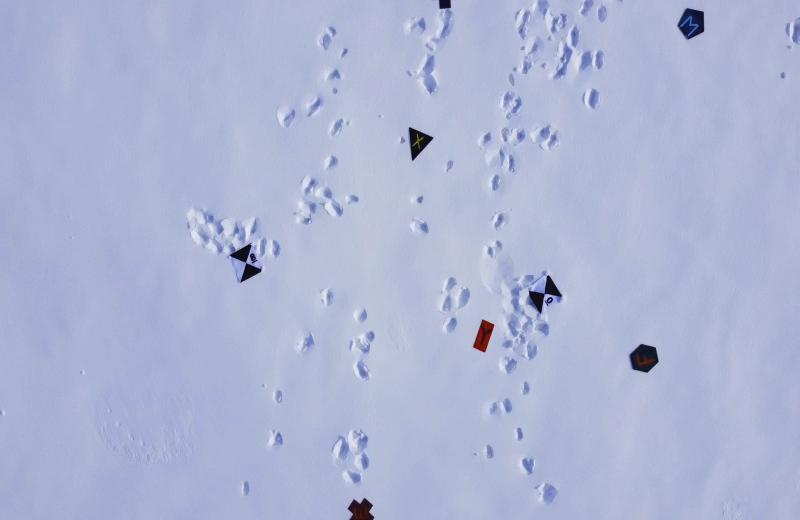Cross: (341, 472, 376, 520)
Hexagon: (625, 334, 664, 379)
Pentagon: (672, 6, 710, 53)
Rectangle: (461, 314, 504, 361)
Triangle: (403, 117, 444, 159)
